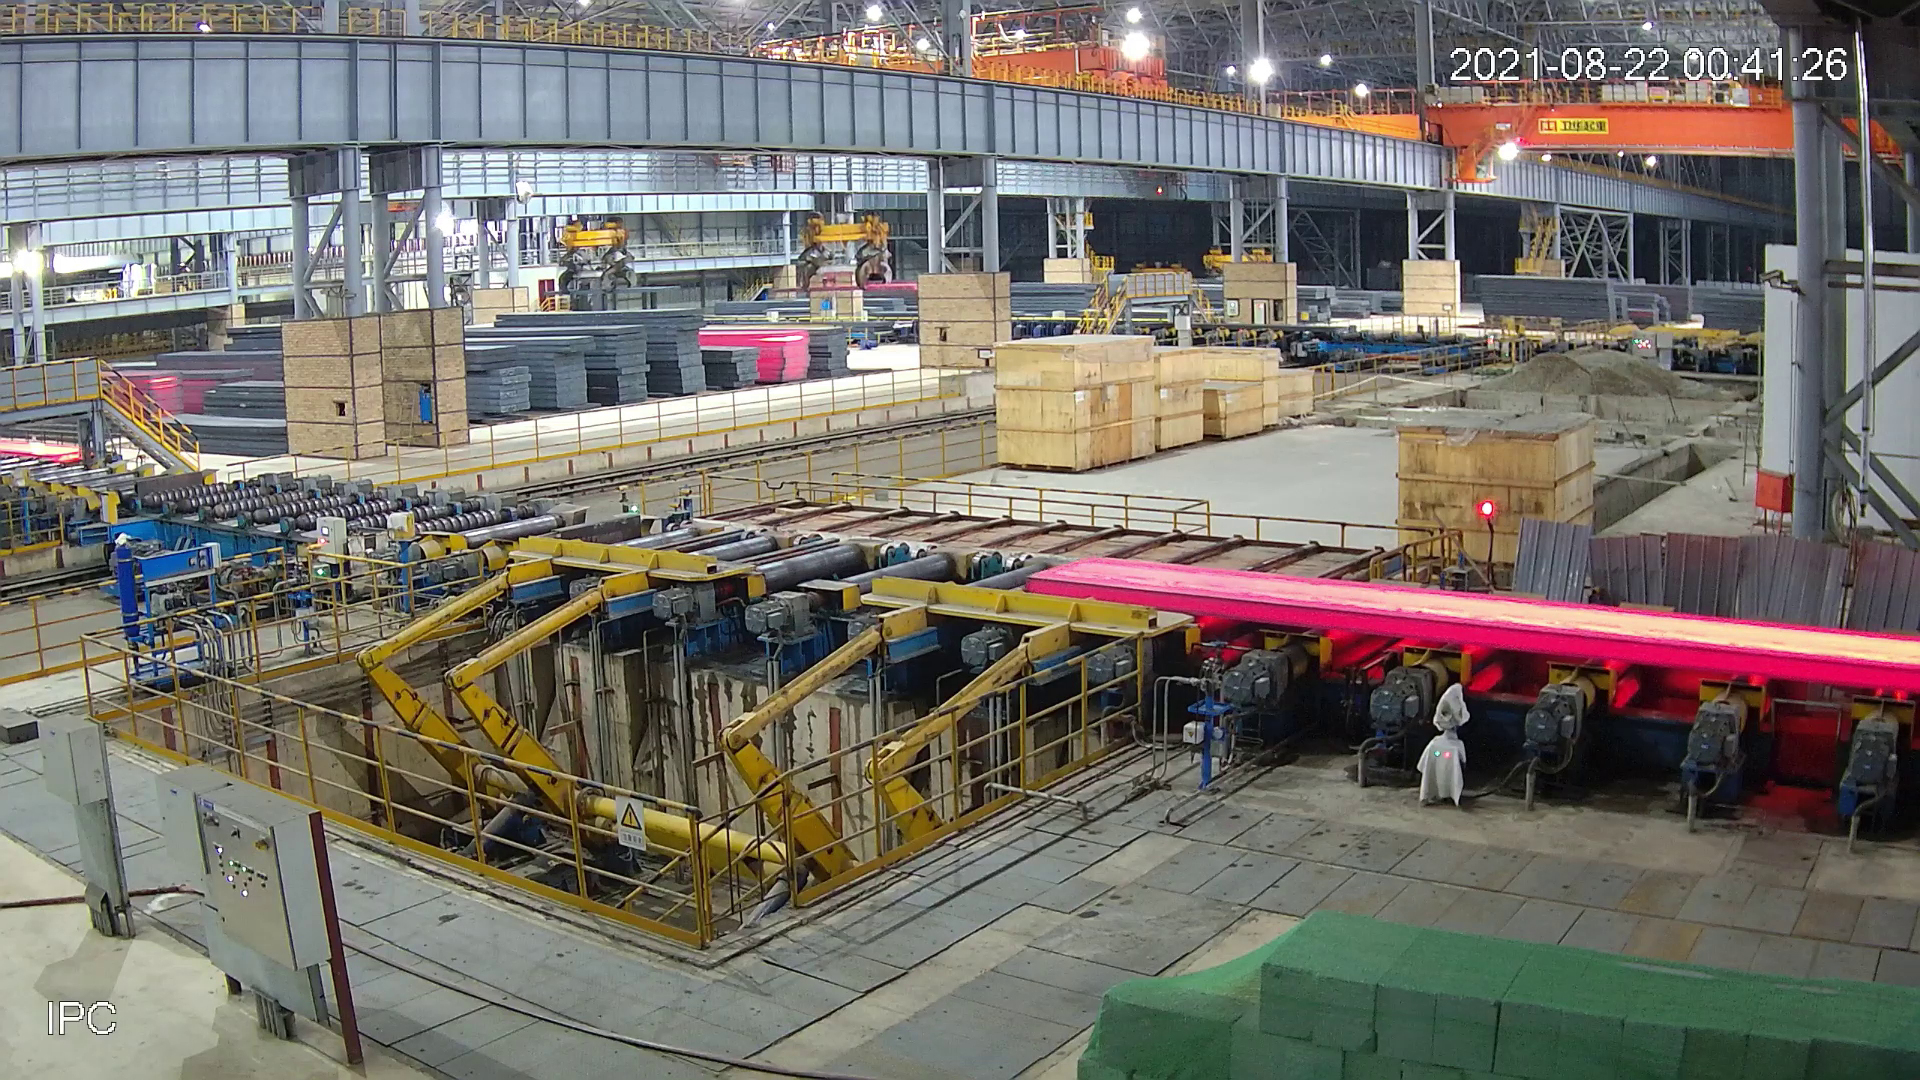slab: (1018, 541, 1920, 705)
